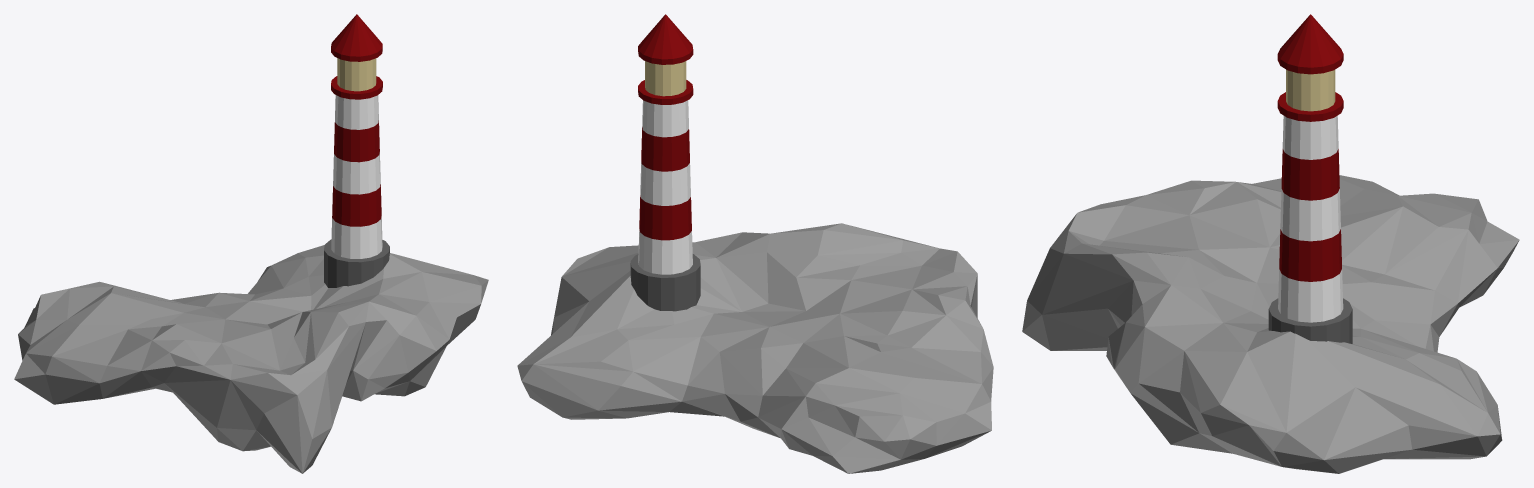
The model's file is Light House001.fbx.
3 views of the same model, side by side, from view 1: azimuth 30°, elevation 25°; view 2: azimuth 150°, elevation 25°; view 3: azimuth 270°, elevation 25° (orthographic). The views are drawn at different scales.
Visible parts, largest first — view 1: Base Rock, Light House; view 2: Base Rock, Light House; view 3: Base Rock, Light House.
Part boxes in pixels (x1,y1,x2,y2): Base Rock: (14,245,488,473); Light House: (324,14,389,287); Base Rock: (517,223,993,473); Light House: (630,14,700,311); Base Rock: (1022,175,1519,473); Light House: (1268,14,1352,343).
Size of what is drawn, in the model's own units: 1203 by 902 by 945.
